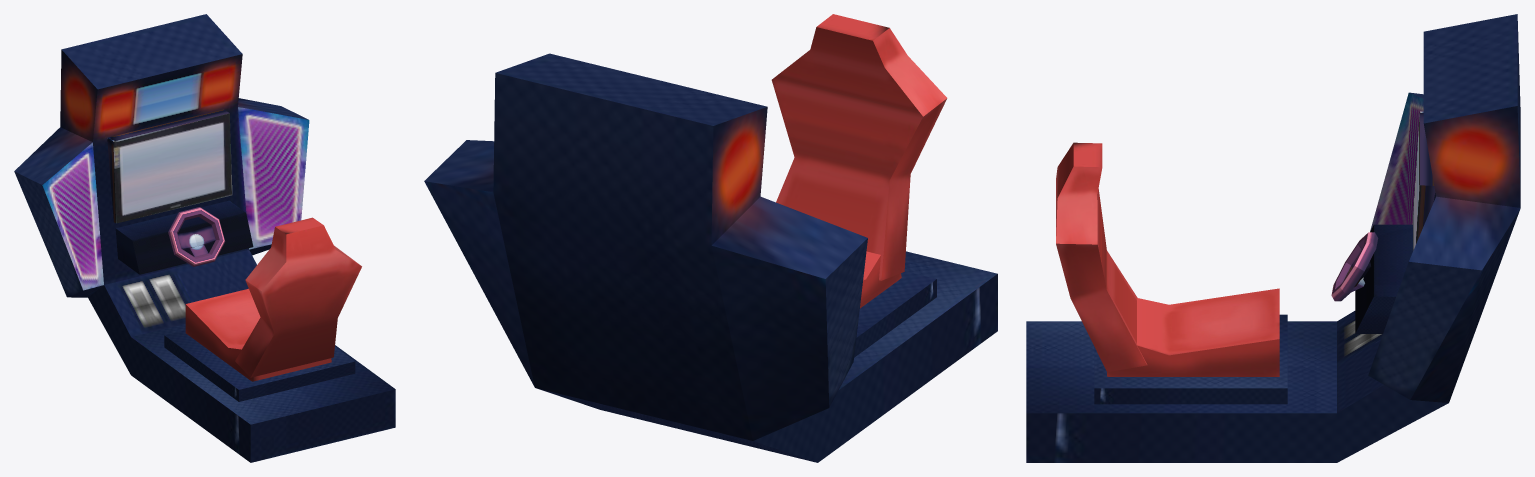
File: gameMachine4.fbx
3 renders of one model, left to right at view 1: azimuth 30°, elevation 25°; view 2: azimuth 150°, elevation 25°; view 3: azimuth 270°, elevation 25°, orthographic. The views are drawn at different scales.
Visible parts, largest first — view 1: gameMachine4; view 2: gameMachine4; view 3: gameMachine4.
Boxes of the visible parts, x1,y1,x2,y2 form: gameMachine4: [14, 14, 395, 462]; gameMachine4: [424, 14, 997, 462]; gameMachine4: [1026, 14, 1520, 462].
Bounding box in the file's own units: 12.44 × 12.24 × 15.37.
